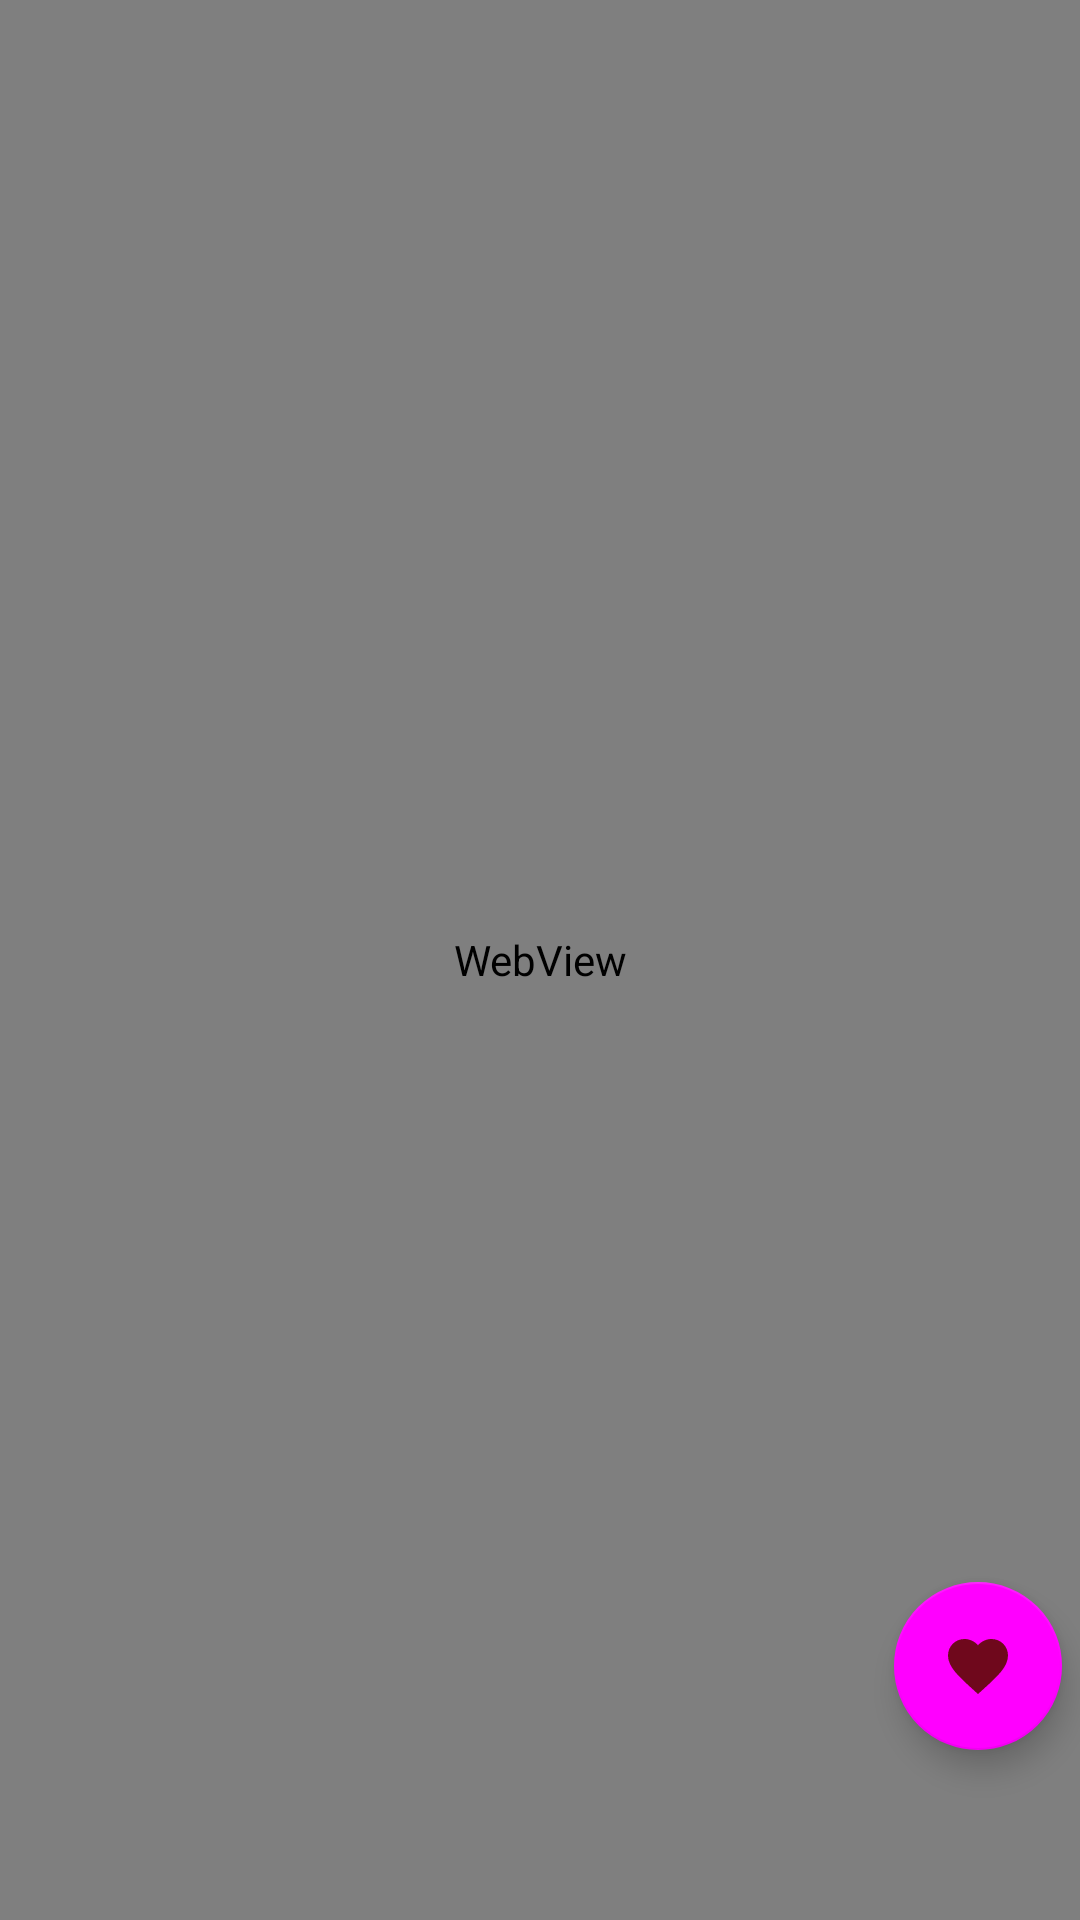

Where to tap for icons on this 1080w x 1920h app screen, as (x,y):
Add to favorite: (978,1666)
